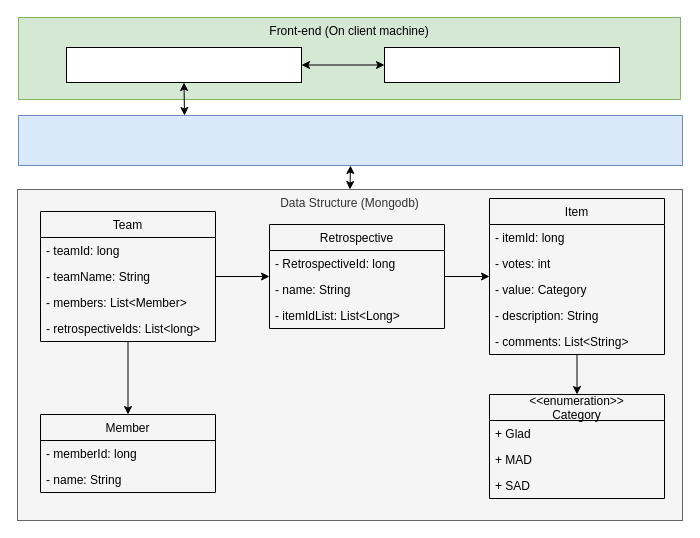
Some shapes in this 700 by 538 pixel diagram are drawn without their labels. The shapes that lost their labels are listed below. From the top down, each one's centre as x and y in pixels, then its label:
(x=184, y=64): JavaScript ( jQuery - Ajax)
(x=502, y=64): HTML CSS Bootstrap
(x=350, y=140): Restful API (Springboot - RestController)
